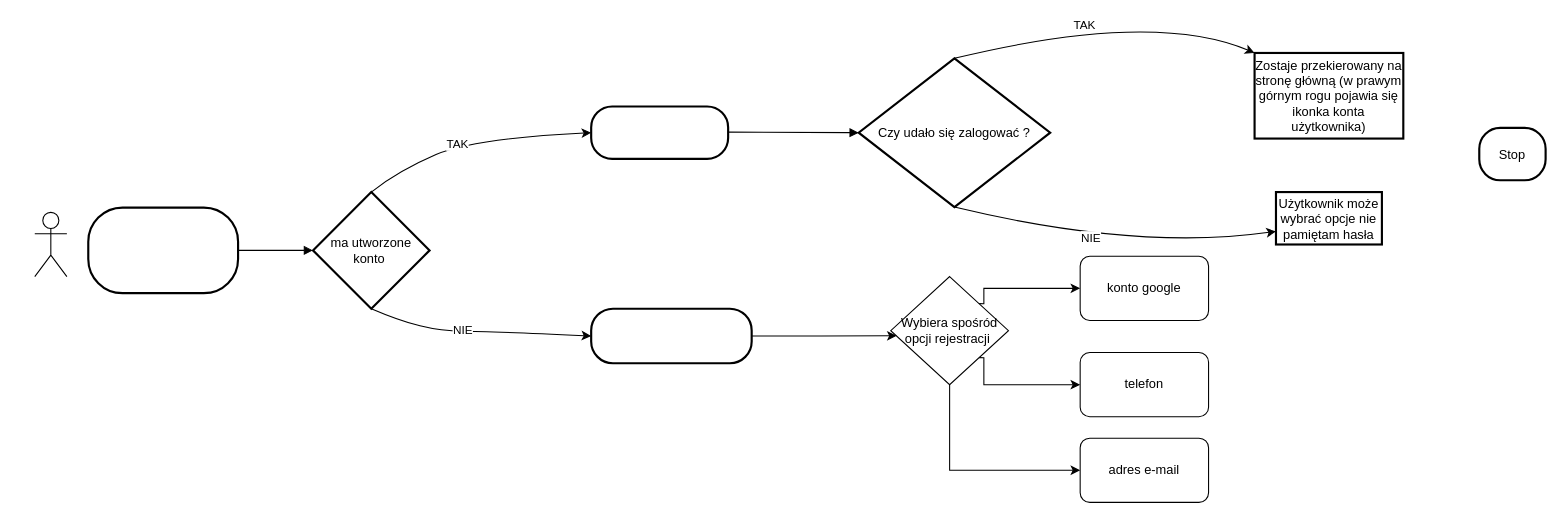
Image size: 1565x521. Some labels were removed from this diagram. Here are the shapes that lost their labels. From the top down, the centre of each, then its label:
At (x=659, y=132): "Loguje się na konto".
At (x=50, y=244): "Użytkownik".
At (x=163, y=250): "znajduje się na stronie głównej".
At (x=671, y=335): "Tworzy konto użytkownika".
